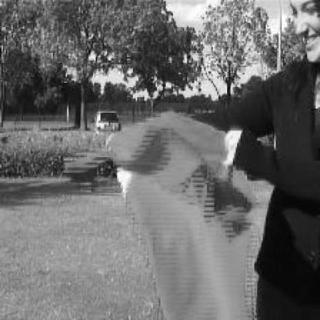other: (74, 118, 268, 316)
